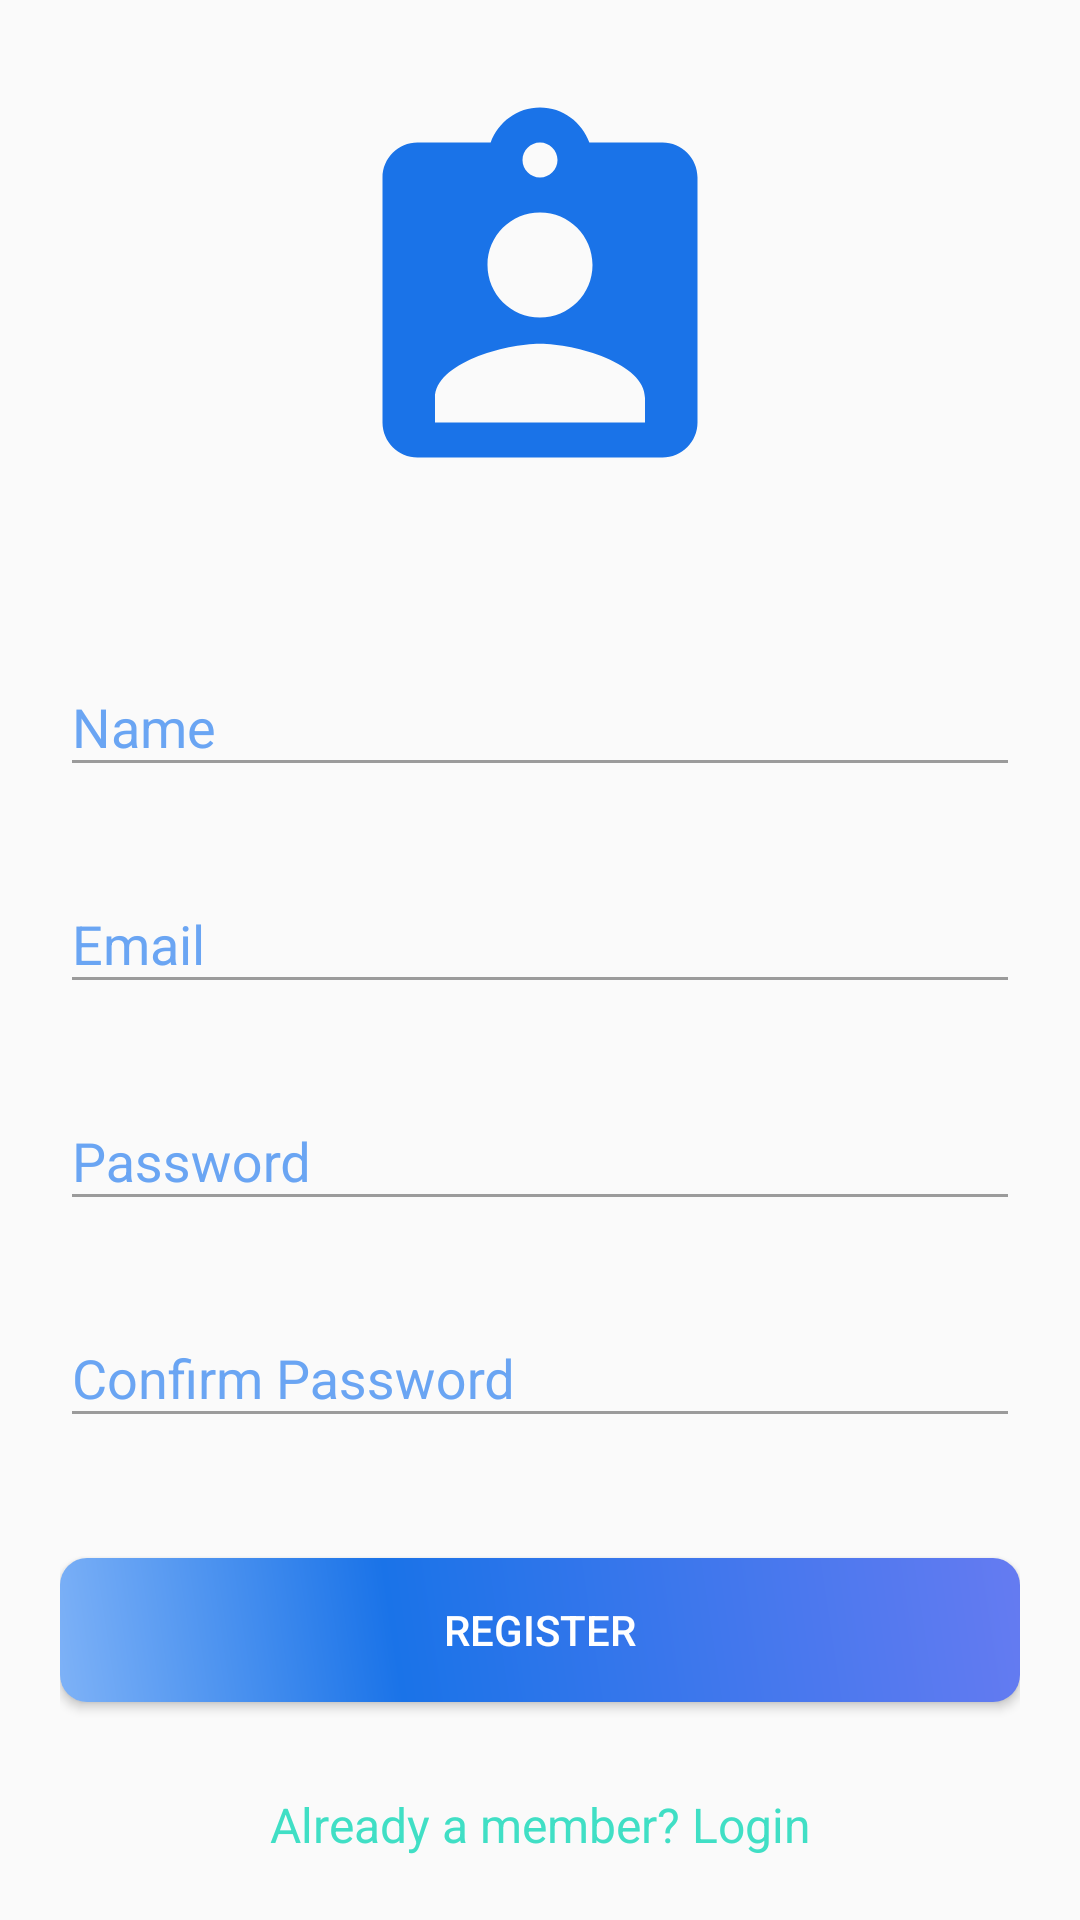

Point at icon controls on the screen. Image size 1080*1920, points as [x,y].
assignment ind: [540,282]
